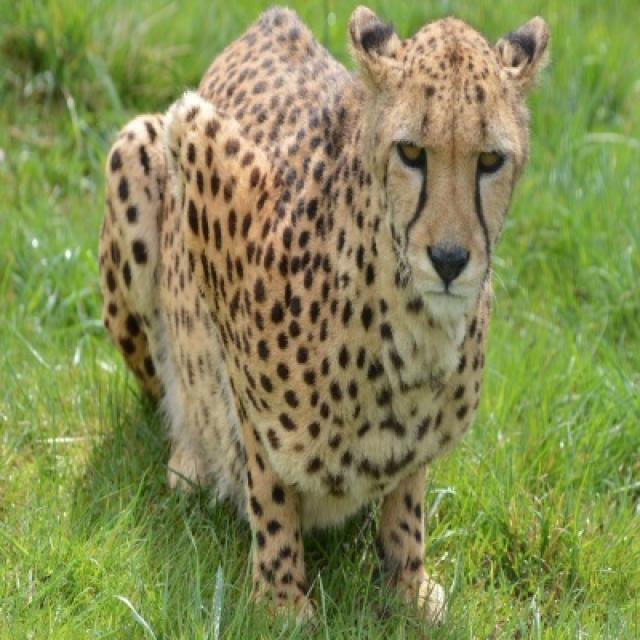Cheetah: (98, 5, 554, 628)
